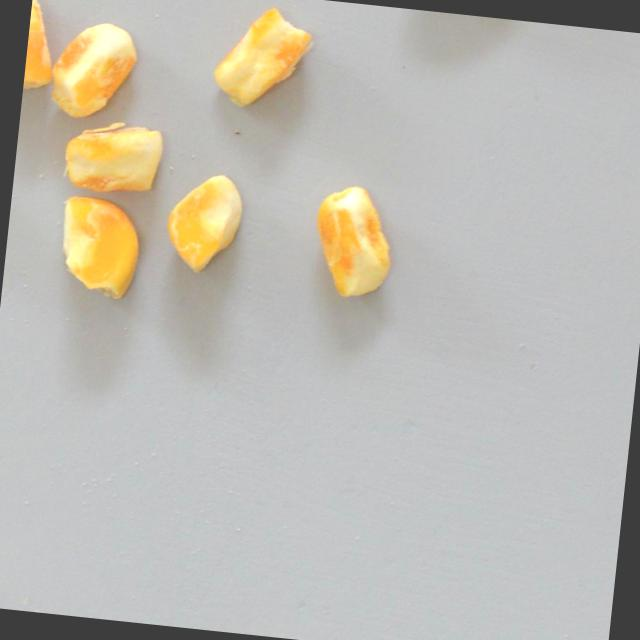pelicula: (209, 2, 315, 114), (308, 178, 399, 301), (44, 16, 140, 122), (55, 195, 144, 299), (162, 168, 242, 277), (60, 116, 165, 199), (22, 0, 59, 97)
